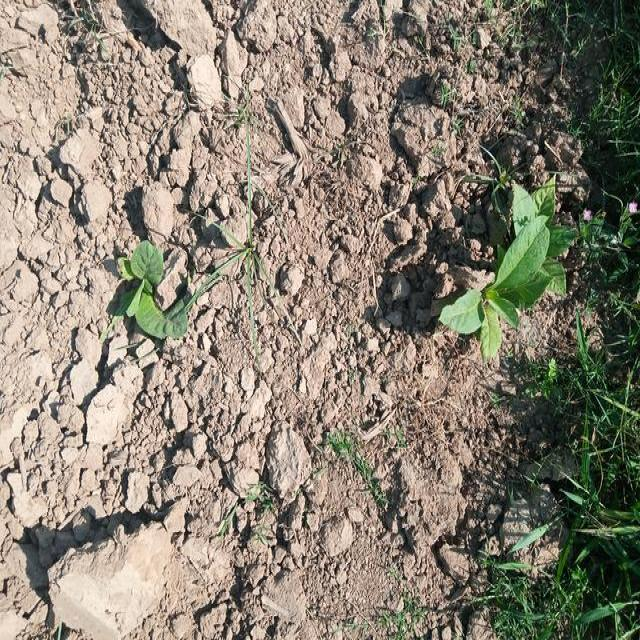crop: (446, 171, 572, 344), (122, 250, 193, 338)
